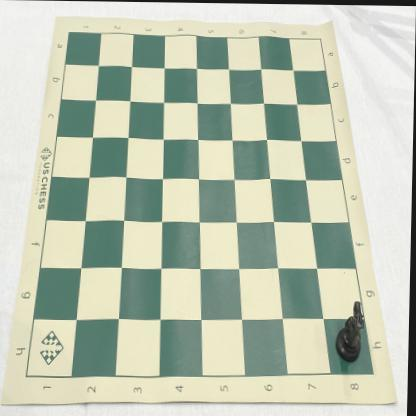black-knight: (336, 300, 365, 362)
